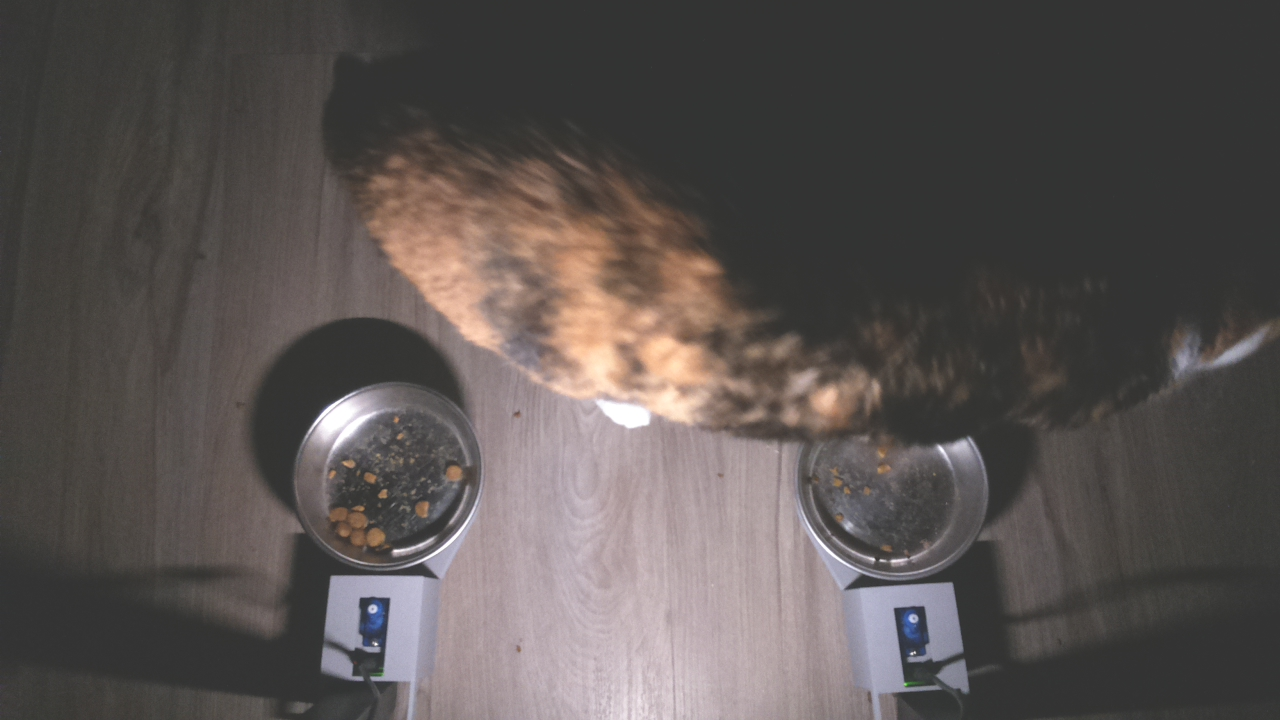open_bowl: (290, 375, 485, 580), (800, 429, 1002, 583)
